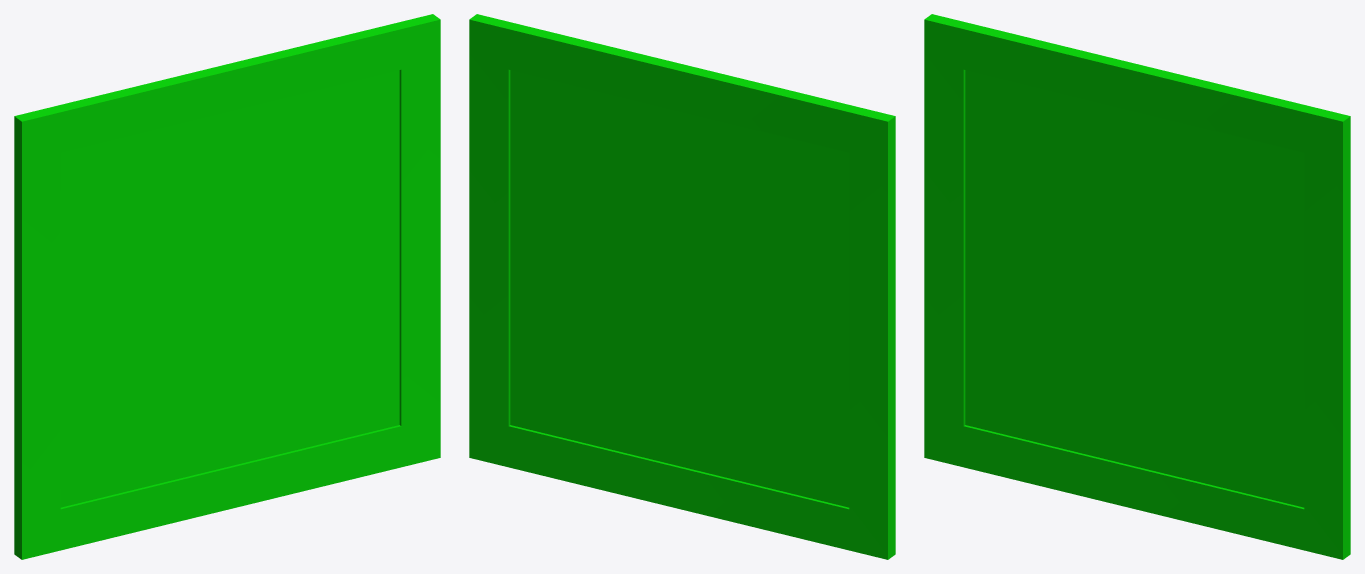
The model's file is quadro.fbx.
The picture shows the model from 3 angles, left to right: view 1: azimuth 30°, elevation 25°; view 2: azimuth 150°, elevation 25°; view 3: azimuth 330°, elevation 25°; orthographic projection.
Visible parts, largest first — view 1: pCube47; view 2: pCube47; view 3: pCube47.
Part boxes in pixels (<box>): pCube47: <box>14,14,440,559</box>; pCube47: <box>469,14,895,559</box>; pCube47: <box>924,14,1350,559</box>.
Bounding box in the file's own units: 4.28 × 4.28 × 0.1347.
